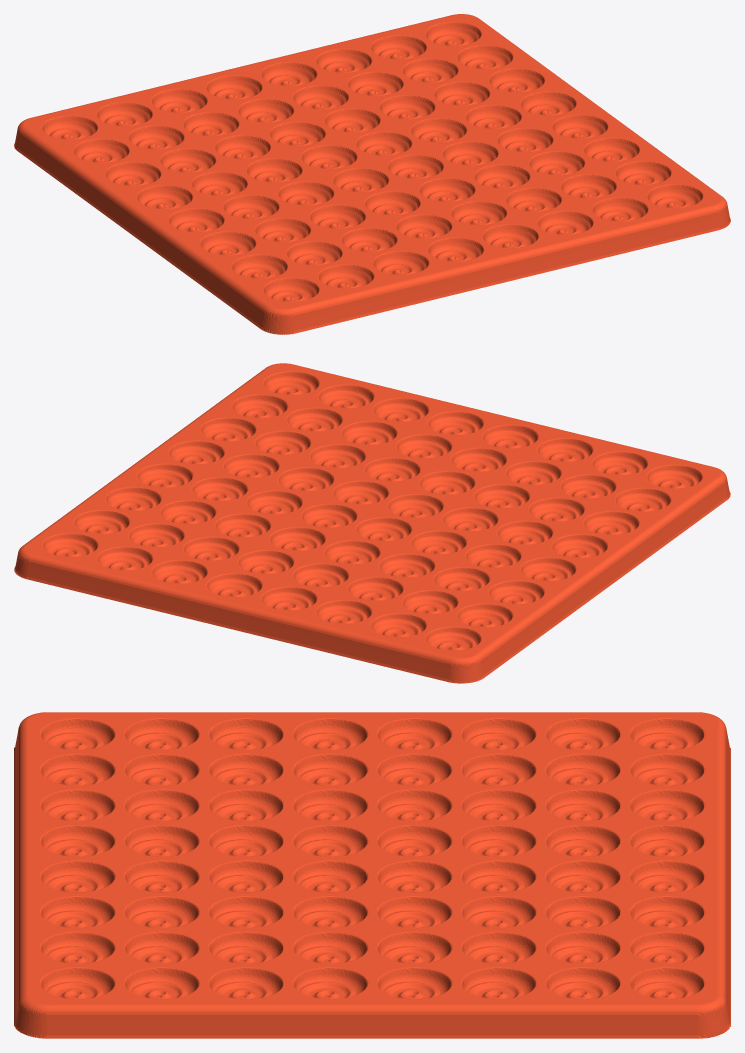
The model's file is mold.glb.
3 renders of one model, top to bottom at view 1: azimuth 30°, elevation 25°; view 2: azimuth 150°, elevation 25°; view 3: azimuth 270°, elevation 25°, orthographic. The views are drawn at different scales.
Visible parts, largest first — view 1: geometry_0; view 2: geometry_0; view 3: geometry_0.
Boxes of the visible parts, x1=… form: geometry_0: x1=14, y1=14, x2=730, y2=334; geometry_0: x1=14, y1=363, x2=730, y2=683; geometry_0: x1=14, y1=712, x2=730, y2=1038.
Bounding box in the file's own units: 0.1886 × 0.00831 × 0.1886.
